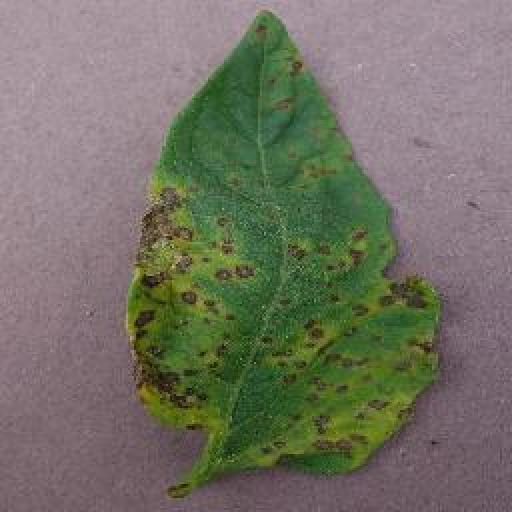disease_tomato: (132, 10, 440, 474)
